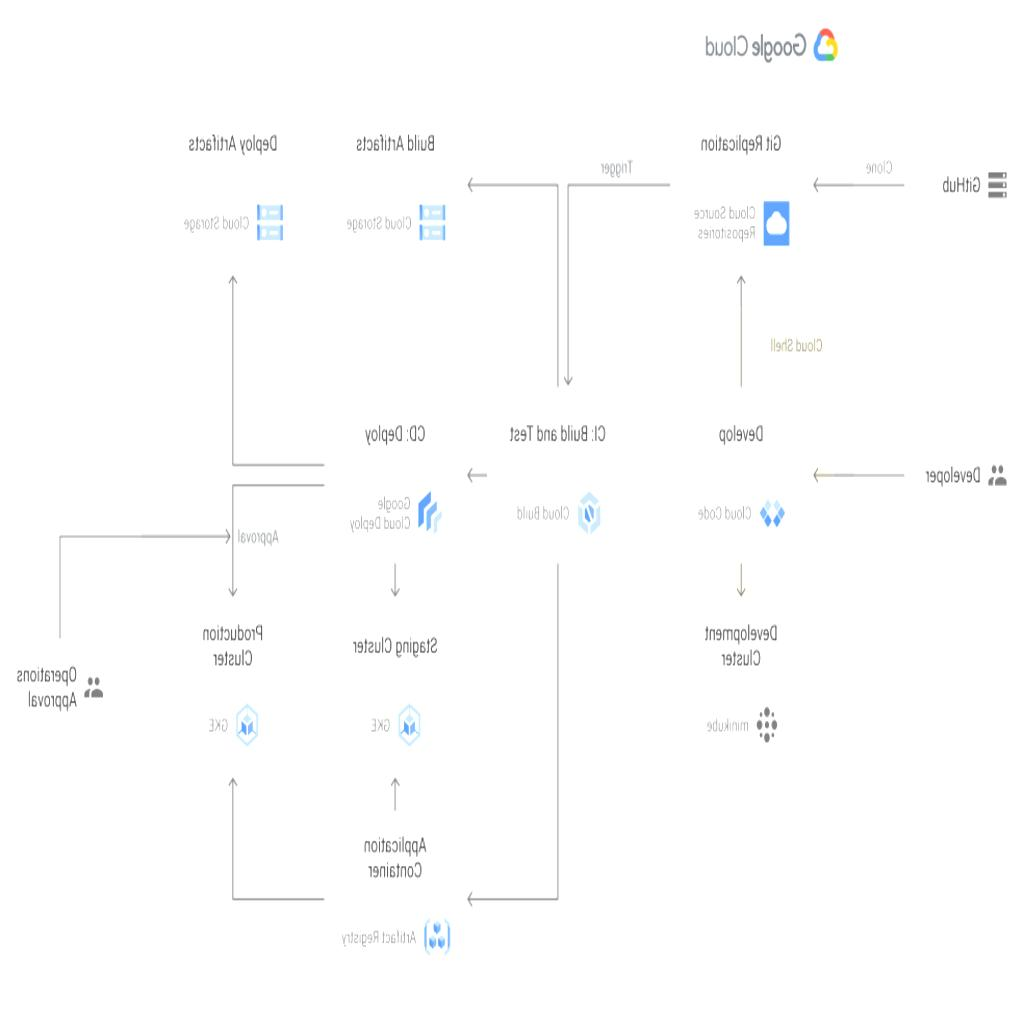actor: (905, 138, 1024, 232), (905, 427, 1024, 521), (1, 639, 120, 733)
compute: (488, 386, 628, 562), (672, 98, 811, 274), (672, 386, 811, 562), (672, 598, 811, 774), (327, 386, 466, 562), (327, 598, 466, 774), (164, 598, 303, 774)
data_flow: (556, 476, 560, 978), (399, 183, 742, 188), (231, 254, 236, 474), (568, 187, 573, 376), (56, 535, 232, 540), (231, 476, 236, 599), (466, 896, 568, 902), (232, 896, 324, 902), (232, 535, 326, 540), (739, 276, 744, 368), (815, 183, 905, 188), (232, 472, 326, 476), (815, 472, 905, 476), (739, 560, 744, 596), (394, 560, 399, 596), (394, 772, 399, 808), (231, 772, 236, 808), (473, 472, 488, 476)
database_storage: (327, 98, 466, 274), (164, 98, 303, 274), (327, 811, 466, 987)
trust_boundary: (141, 5, 854, 1019), (650, 304, 836, 986)
